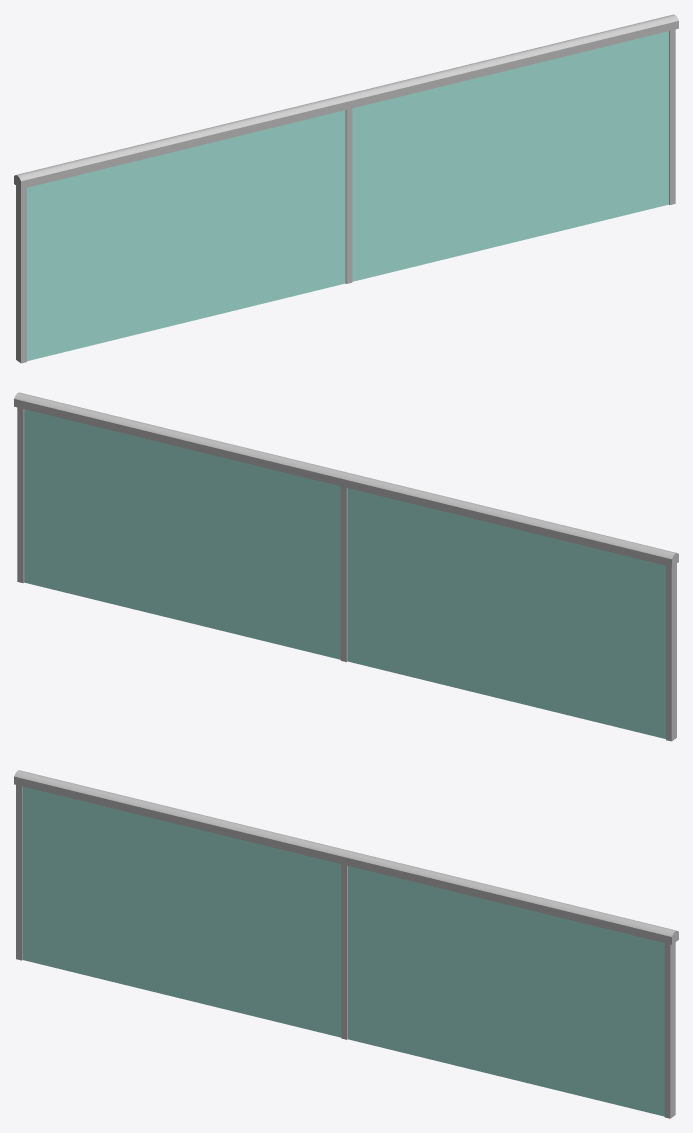
Rendered from Railing_2Wide.fbx.
The picture shows the model from 3 angles, top to bottom: view 1: azimuth 30°, elevation 25°; view 2: azimuth 150°, elevation 25°; view 3: azimuth 330°, elevation 25°; orthographic projection.
Parts seen in each view (by area): view 1: Railing_2Wide; view 2: Railing_2Wide; view 3: Railing_2Wide.
Part boxes in pixels (<box>): Railing_2Wide: <box>14,14,678,363</box>; Railing_2Wide: <box>14,392,678,741</box>; Railing_2Wide: <box>14,770,678,1118</box>.
Bounding box in the file's own units: 5.06 × 1.37 × 0.0948.
